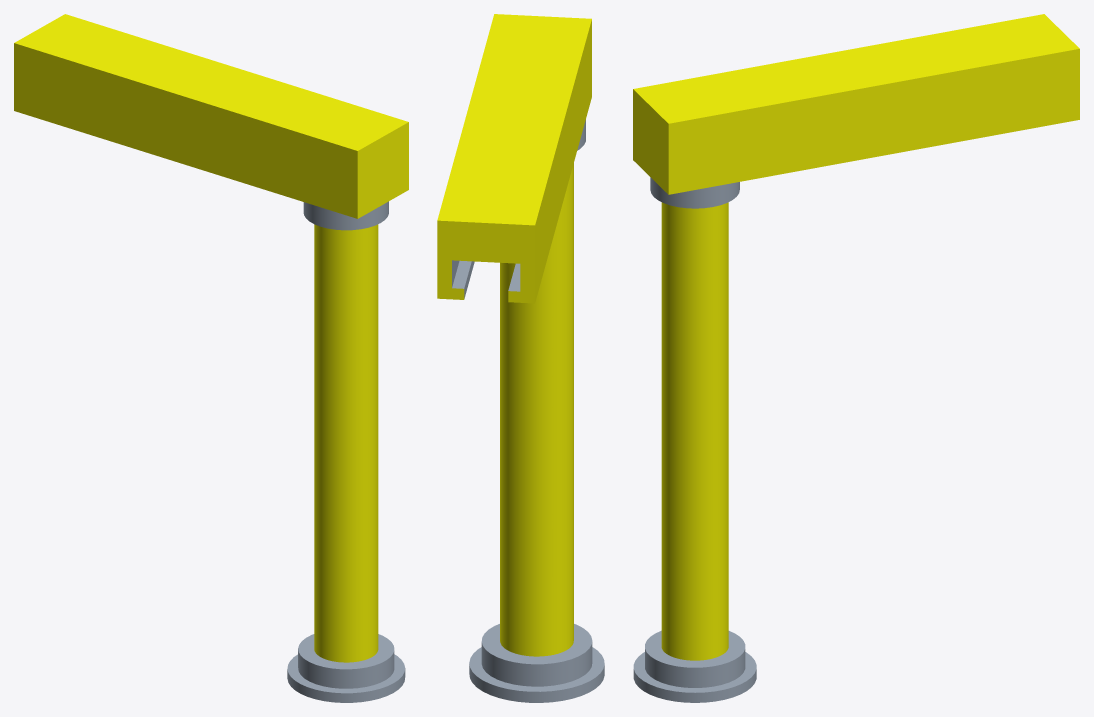
Rendered from crane_assembly.obj.
3 renders of one model, left to right at view 1: azimuth 30°, elevation 25°; view 2: azimuth 150°, elevation 25°; view 3: azimuth 270°, elevation 25°, orthographic. The views are drawn at different scales.
Visible parts, largest first — view 1: 72, 51, 1, 27, 29, 41, 45, 49, 43, 39, 31, 35 (+4 smaller); view 2: 72, 27, 1, 64, 23, 19, 62, 15, 25, 29, 11, 21 (+6 smaller); view 3: 72, 51, 1, 5, 3, 9, 7, 13, 17, 73, 11, 15 (+2 smaller).
Part boxes in pixels (x1=…): 72: x1=14, y1=14, x2=408, y2=218; 51: x1=359, y1=224, x2=378, y2=659; 1: x1=287, y1=634, x2=405, y2=702; 27: x1=314, y1=224, x2=324, y2=658; 29: x1=320, y1=227, x2=330, y2=660; 41: x1=338, y1=230, x2=345, y2=662; 45: x1=345, y1=230, x2=352, y2=661; 49: x1=352, y1=229, x2=359, y2=660; 43: x1=352, y1=230, x2=358, y2=662; 39: x1=345, y1=230, x2=351, y2=662; 31: x1=331, y1=229, x2=337, y2=661; 35: x1=338, y1=230, x2=344, y2=662; 72: x1=437, y1=14, x2=591, y2=302; 27: x1=517, y1=174, x2=573, y2=656; 1: x1=469, y1=624, x2=604, y2=702; 64: x1=438, y1=220, x2=534, y2=302; 23: x1=515, y1=264, x2=521, y2=654; 19: x1=509, y1=263, x2=514, y2=652; 62: x1=437, y1=221, x2=519, y2=263; 15: x1=504, y1=263, x2=508, y2=650; 25: x1=510, y1=263, x2=515, y2=653; 29: x1=571, y1=165, x2=573, y2=642; 11: x1=501, y1=263, x2=504, y2=647; 21: x1=505, y1=263, x2=508, y2=650; 72: x1=633, y1=14, x2=1079, y2=194; 51: x1=661, y1=202, x2=698, y2=660; 1: x1=633, y1=630, x2=756, y2=702; 5: x1=699, y1=208, x2=706, y2=660; 3: x1=706, y1=208, x2=712, y2=659; 9: x1=706, y1=207, x2=712, y2=658; 7: x1=713, y1=207, x2=718, y2=658; 13: x1=713, y1=205, x2=718, y2=656; 17: x1=719, y1=204, x2=723, y2=653; 73: x1=650, y1=177, x2=720, y2=208; 11: x1=719, y1=206, x2=723, y2=656; 15: x1=723, y1=204, x2=726, y2=653.
Bounding box in the file's own units: 11.66 × 28.5 × 19.95.
